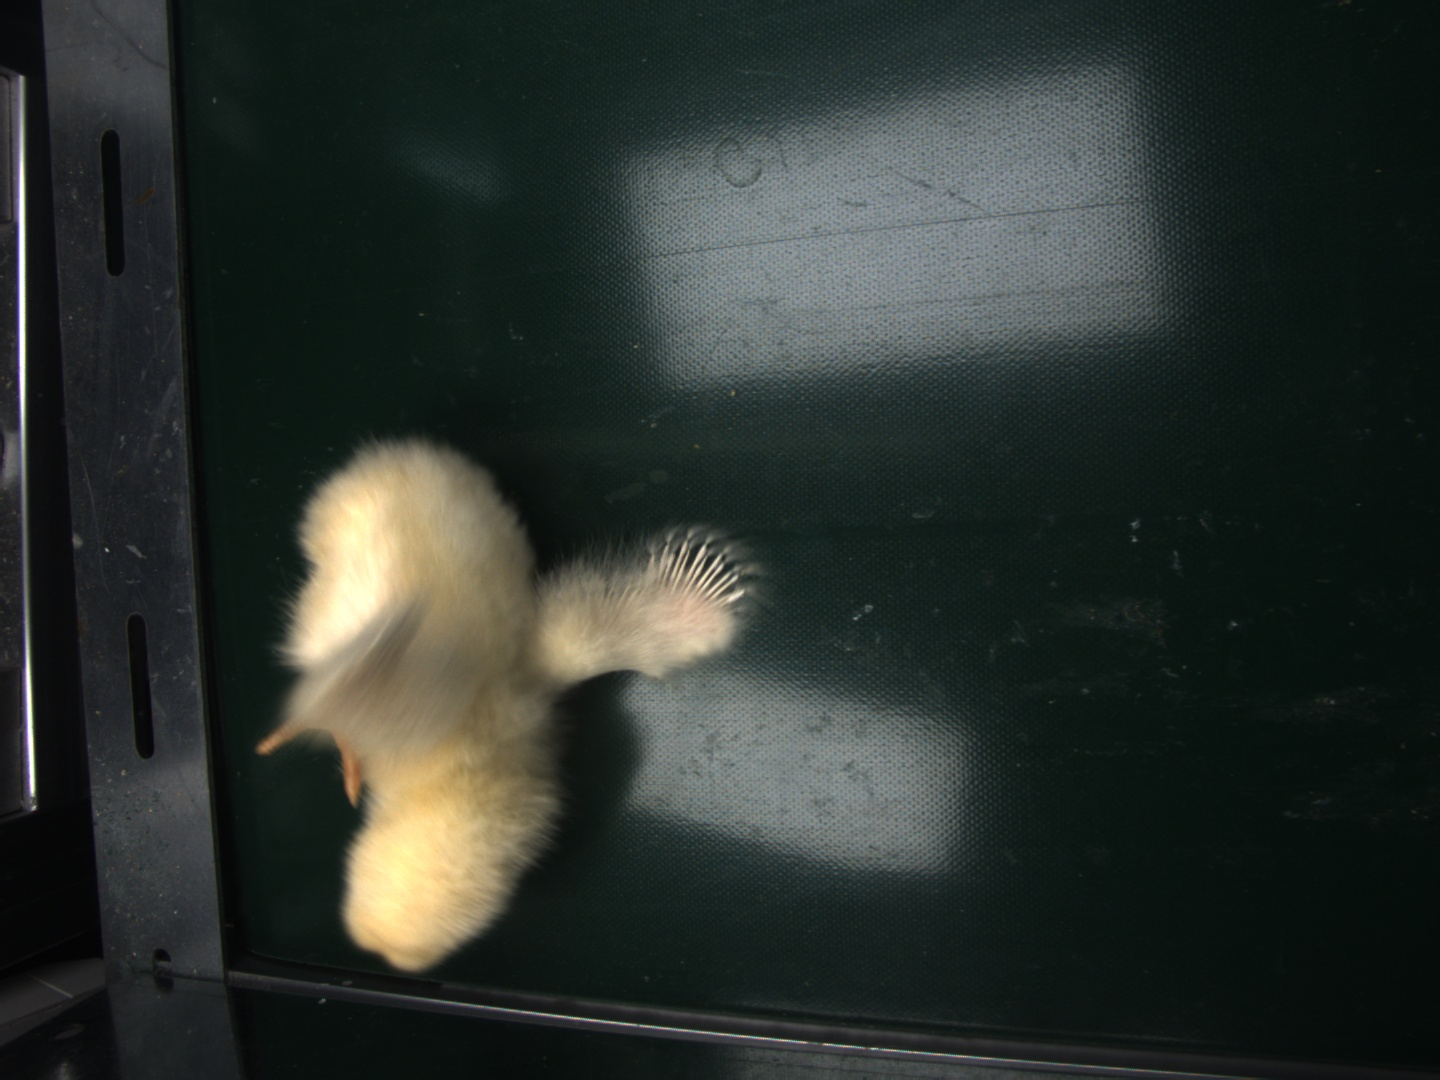male: (651, 534, 747, 607)
